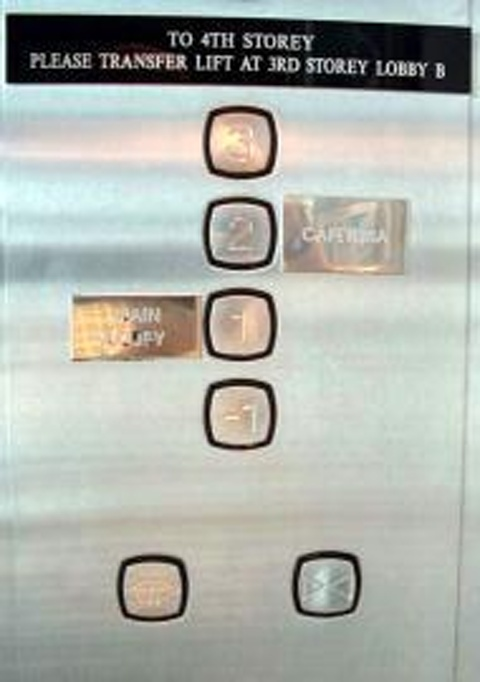-1: (200, 374, 281, 454)
1: (200, 284, 281, 363)
2: (201, 192, 282, 275)
3: (200, 102, 281, 183)
blur: (115, 549, 191, 627)
close: (289, 548, 364, 621)
